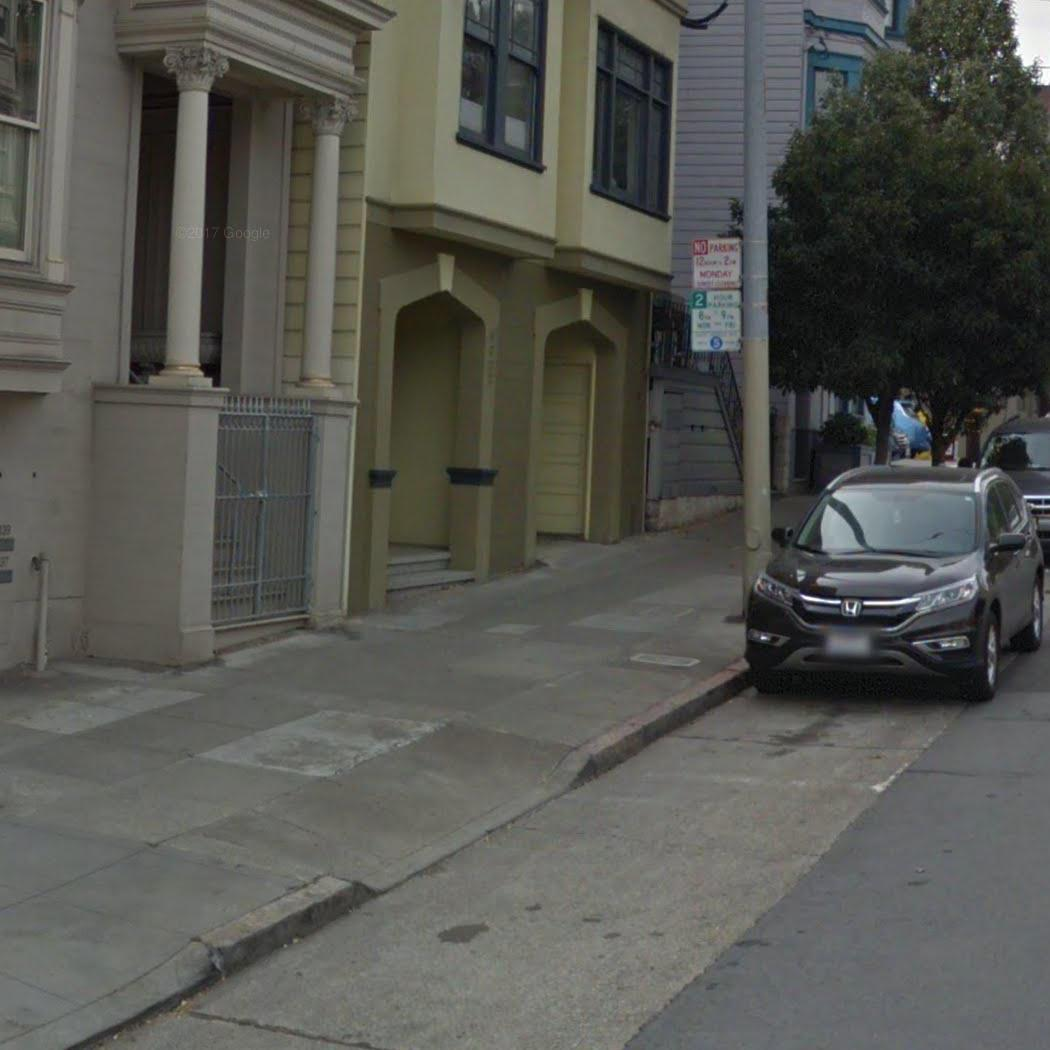2 Hour Parking: (689, 291, 744, 353)
No Parking: (690, 236, 744, 292)
